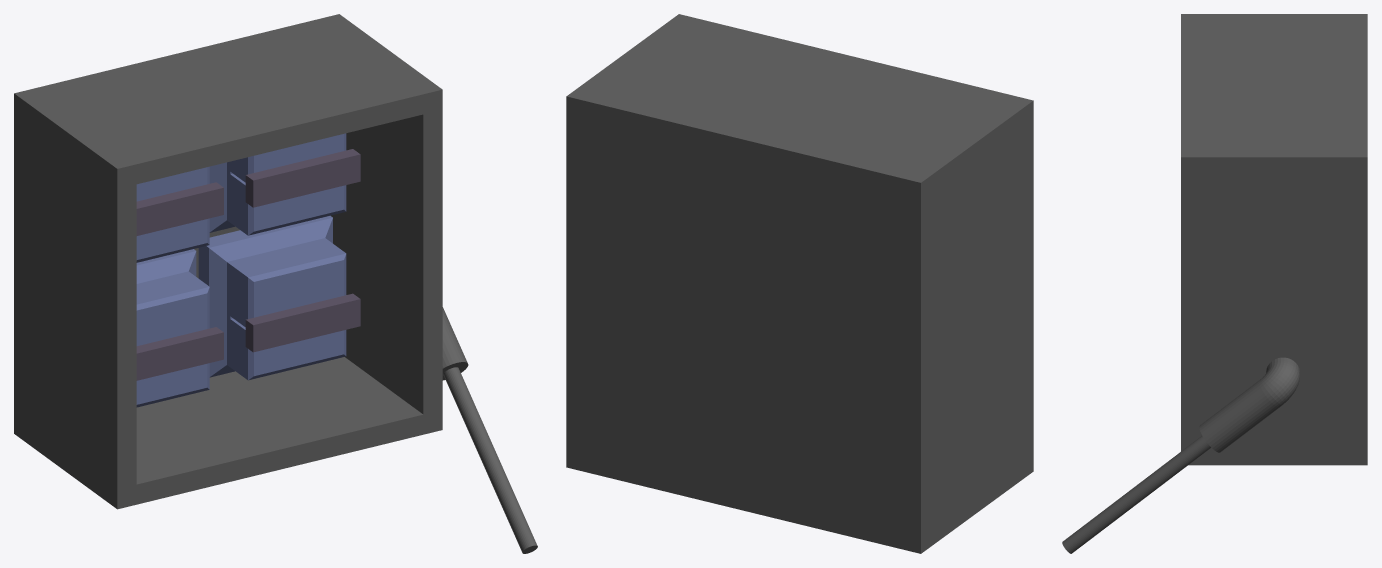
Rendered from Fusebox.fbx.
3 renders of one model, left to right at view 1: azimuth 30°, elevation 25°; view 2: azimuth 150°, elevation 25°; view 3: azimuth 270°, elevation 25°, orthographic. The views are drawn at different scales.
Visible parts, largest first — view 1: FuseBox, Fuses, Lever; view 2: FuseBox; view 3: FuseBox, Lever.
Part boxes in pixels (left/top/right/bottom): FuseBox: left=14, top=14, right=442, bottom=509; Fuses: left=136, top=133, right=360, bottom=407; Lever: left=442, top=307, right=537, bottom=553; FuseBox: left=566, top=14, right=1033, bottom=553; FuseBox: left=1181, top=14, right=1367, bottom=465; Lever: left=1062, top=357, right=1299, bottom=553.
Bounding box in the file's own units: 2.25 × 1.8 × 2.5.
